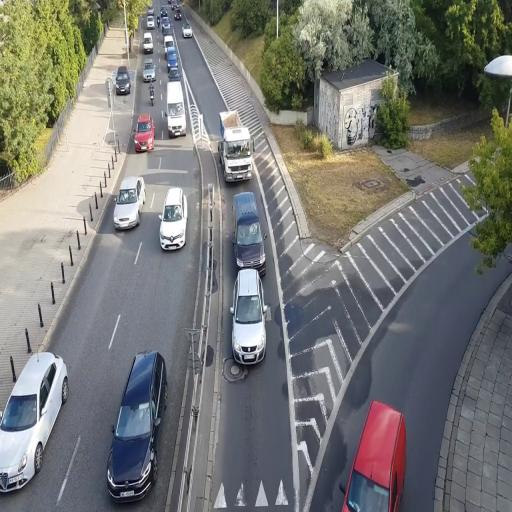vehicle: (0, 350, 70, 494), (106, 350, 168, 502), (342, 398, 407, 512), (230, 268, 268, 366), (234, 192, 266, 277), (234, 192, 266, 274), (220, 110, 252, 184), (159, 186, 188, 253), (159, 186, 188, 252), (113, 181, 141, 232), (166, 80, 186, 138), (134, 114, 156, 153), (114, 67, 132, 95), (142, 59, 156, 82), (182, 22, 193, 38)
